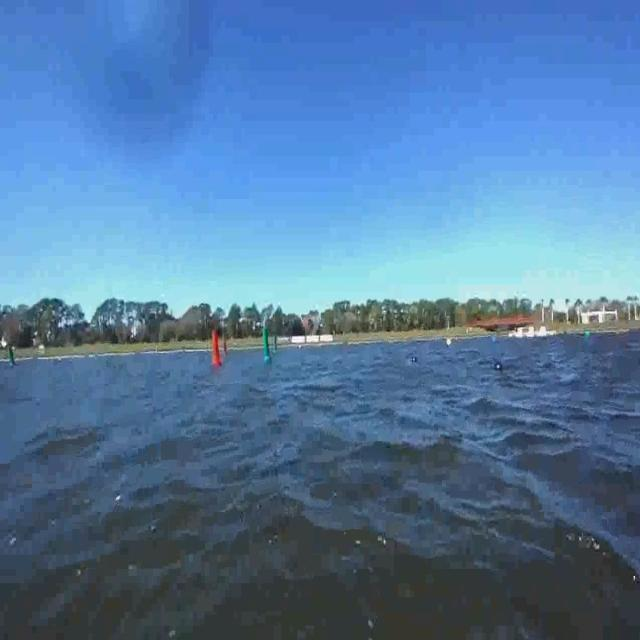black-buoy: (496, 362, 504, 372), (414, 354, 417, 362)
green-column-buoy: (264, 328, 274, 364), (8, 346, 16, 368), (273, 333, 279, 355), (586, 330, 592, 339)
red-column-buoy: (211, 330, 223, 368), (222, 338, 228, 356)
yellow-buoy: (447, 338, 454, 349)
